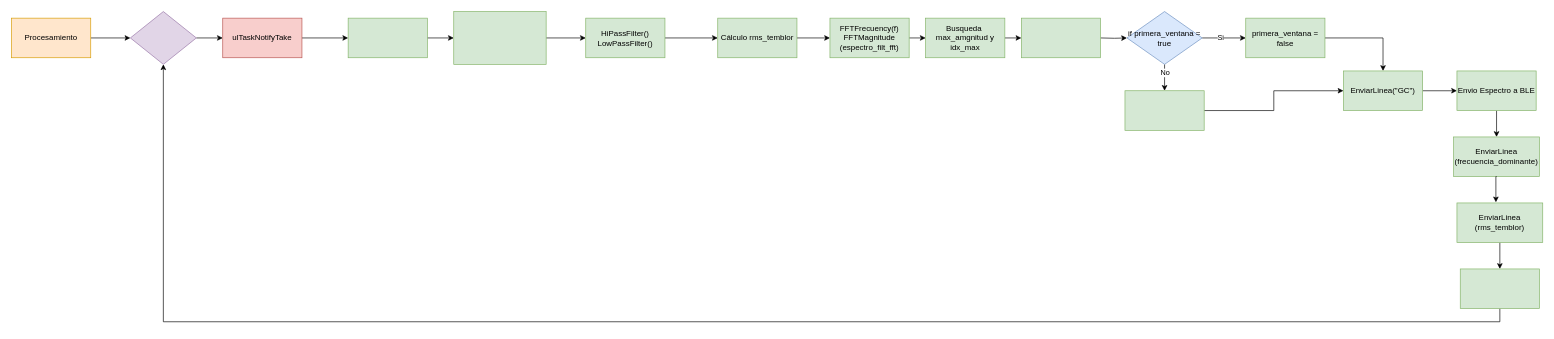
Some shapes in this 1554 by 339 pixel diagram are drawn without their labels. Here are the shapes that lost their labels. From the top down, the centre of each, then its label:
At (x=163, y=37): "while true".
At (x=387, y=37): "Cálculo media_dc".
At (x=499, y=37): "buffer_procesamiento[I] - media_dc".
At (x=1061, y=37): "frecuencia_dominante = f (idx_max)".
At (x=1164, y=110): "Cálculo espectro_acum, rms2_acum y n_ventanas".
At (x=1499, y=288): "Envio Espectro a PC".
